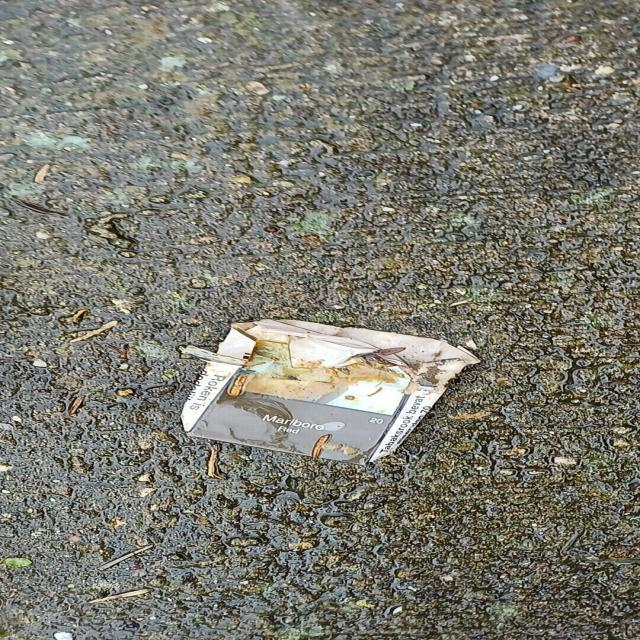Paper: (173, 318, 484, 467)
